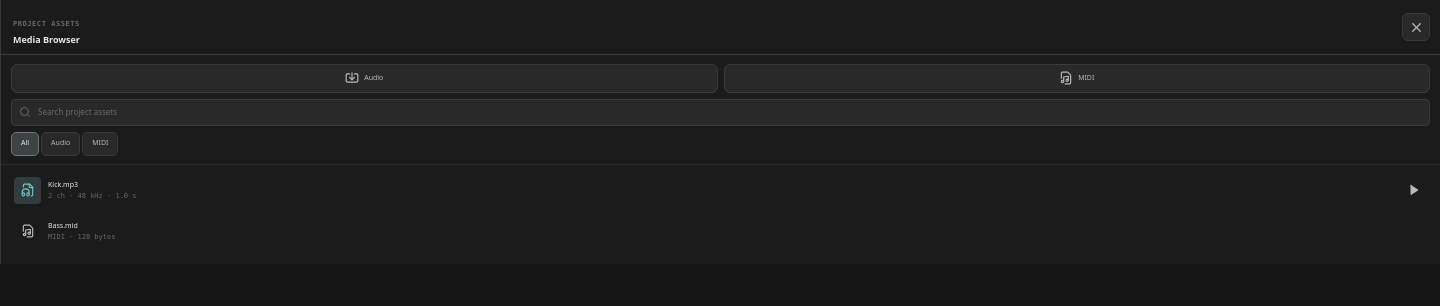
Test case: MediaBrowserPanel › keeps the audition control active and reports a native stop failure
Click the button named "Audition Kick.mp3".
click(1414, 190)  # box [1402,178,1425,202]
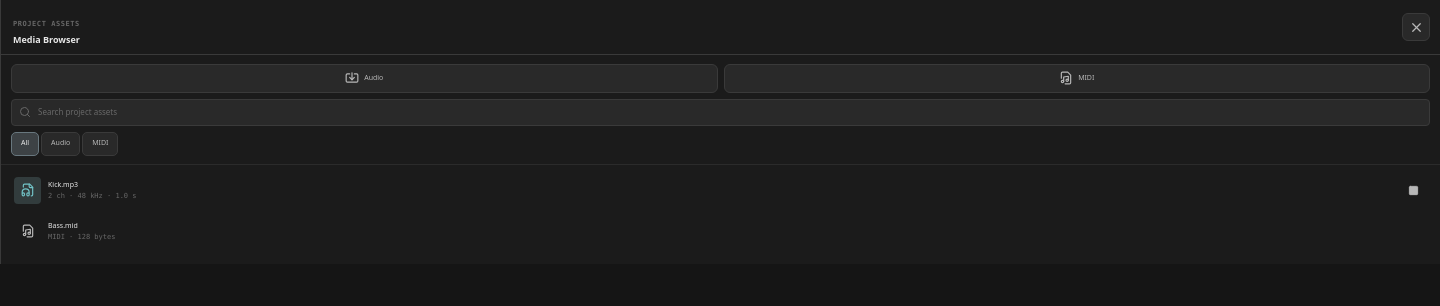
Click the button named "Stop auditioning Kick.mp3".
click(1414, 190)  # box [1402,178,1425,202]
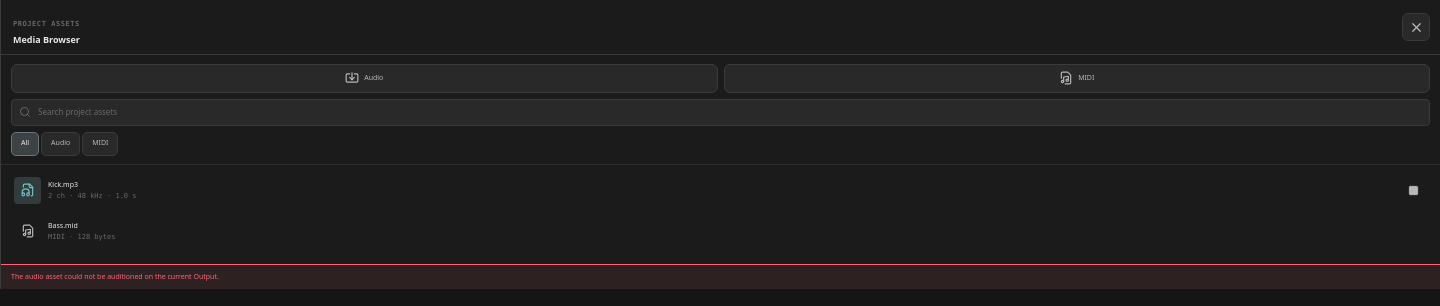
Now the message "The audio asset could not be auditioned on the current Output." is shown, box [1,264,1439,289]
